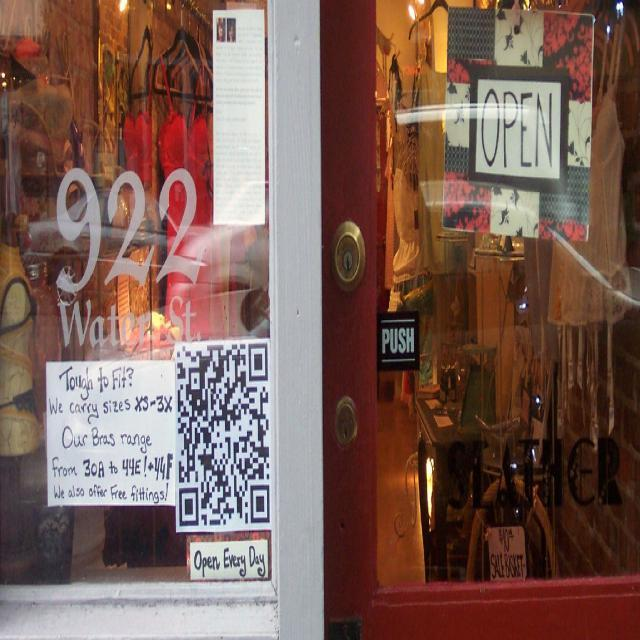qr_code: (176, 342, 270, 526)
